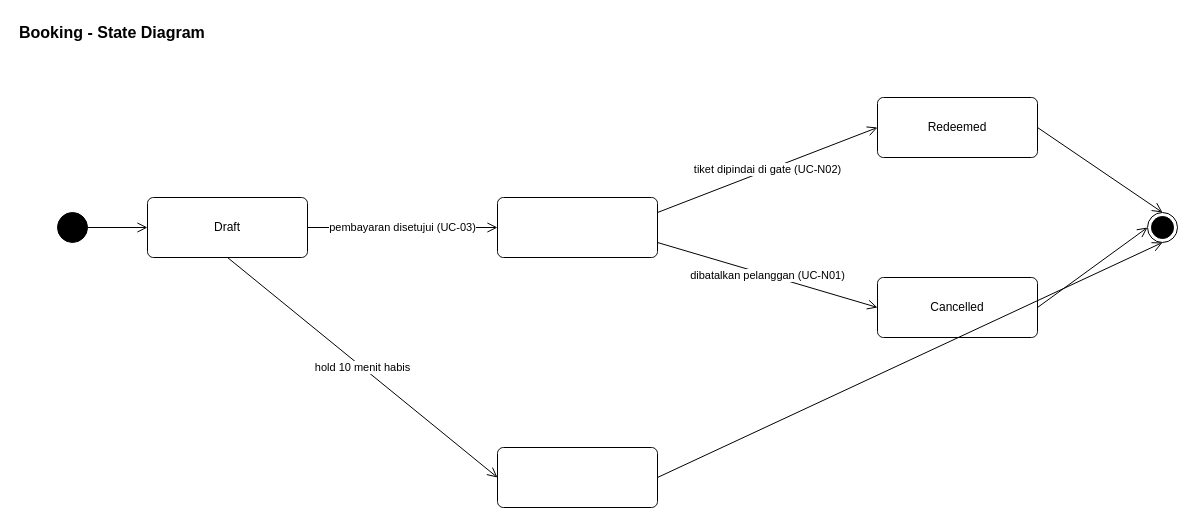
The diagram is 1195 pixels wide and 525 high, and some of its shapes have lost their labels. Here are the shapes that lost their labels. From the top down, the centre of each, then its label:
the point at 577,227: Confirmed
the point at 577,477: Expired
